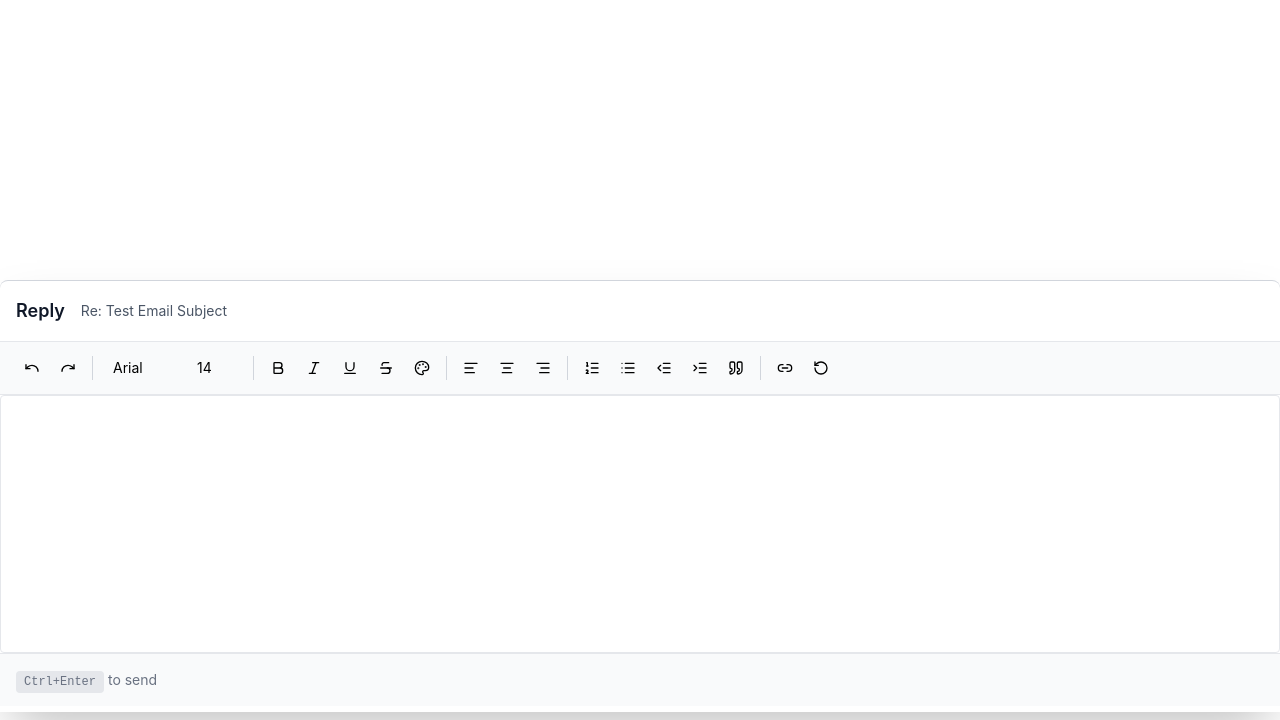
Test: EmailComposer Component › Font Controls › shows font size selector when clicked
The image size is (1280, 720).
Click the button titled "Font Size".
click(215, 368)  # box [185, 350, 245, 386]
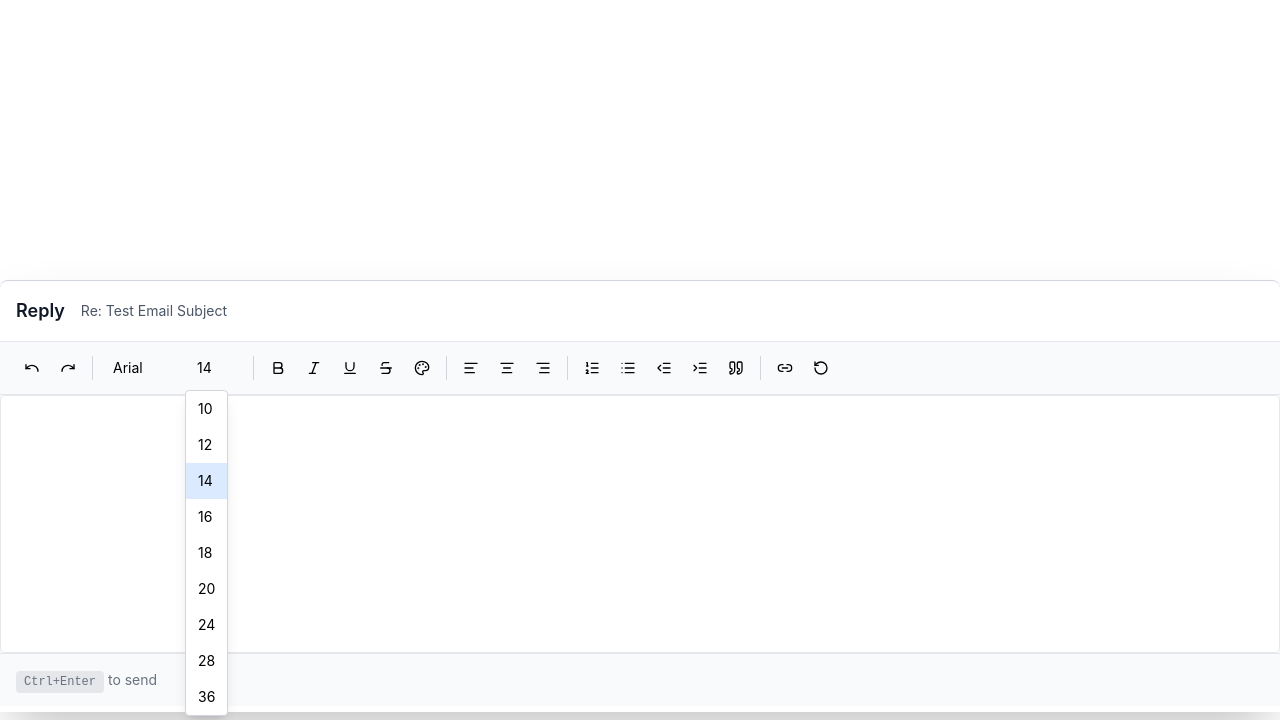
Result: the button "12" is shown at [186, 427, 227, 463]
Result: the button "16" is shown at [186, 499, 227, 535]
Result: the button "20" is shown at [186, 571, 227, 607]
